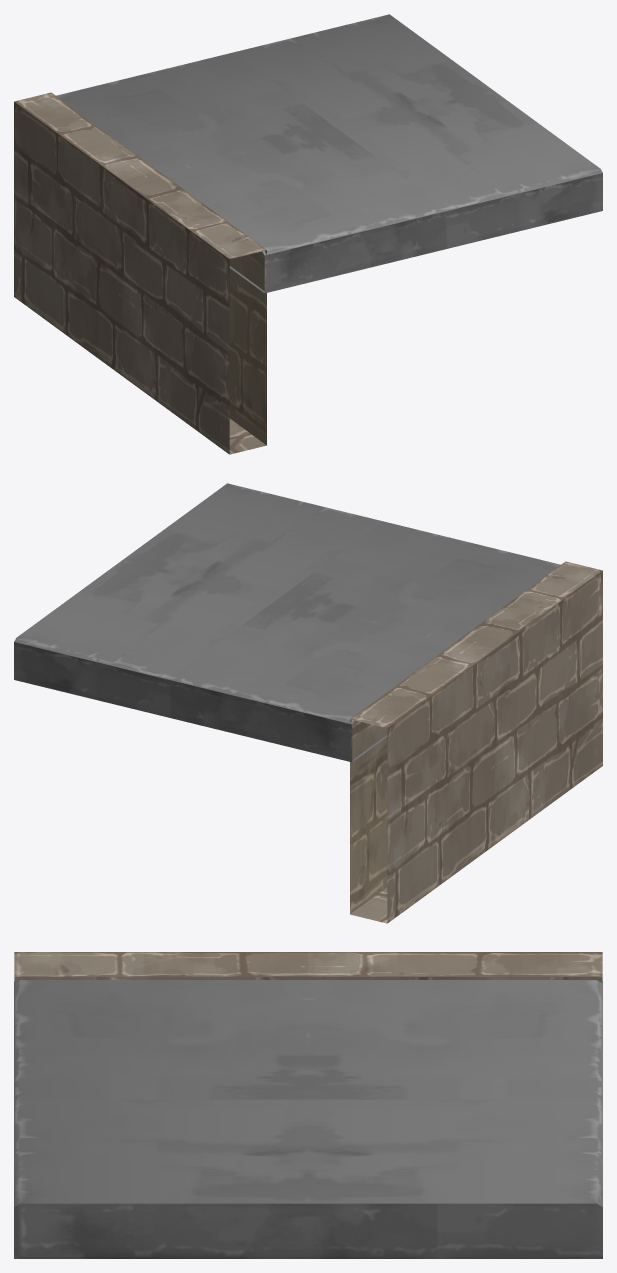
Rendered from Stairs_Exterior_SidePlatform.gltf.
3 renders of one model, top to bottom at view 1: azimuth 30°, elevation 25°; view 2: azimuth 150°, elevation 25°; view 3: azimuth 270°, elevation 25°, orthographic. The views are drawn at different scales.
Parts seen in each view (by area): view 1: Stairs_Exterior_SidePlatform; view 2: Stairs_Exterior_SidePlatform; view 3: Stairs_Exterior_SidePlatform.
Part boxes in pixels (x1=…): Stairs_Exterior_SidePlatform: x1=14, y1=14, x2=602, y2=454; Stairs_Exterior_SidePlatform: x1=14, y1=483, x2=602, y2=923; Stairs_Exterior_SidePlatform: x1=14, y1=952, x2=602, y2=1258.
Size of the model in its own units: 2 by 1 by 2.
Materials: 2 (2 with a texture image).
